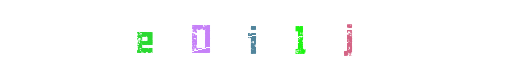0: (168, 0, 248, 80)
1: (223, 0, 303, 80)
E: (164, 0, 244, 80)
I: (194, 0, 274, 80)
J: (309, 0, 389, 80)
